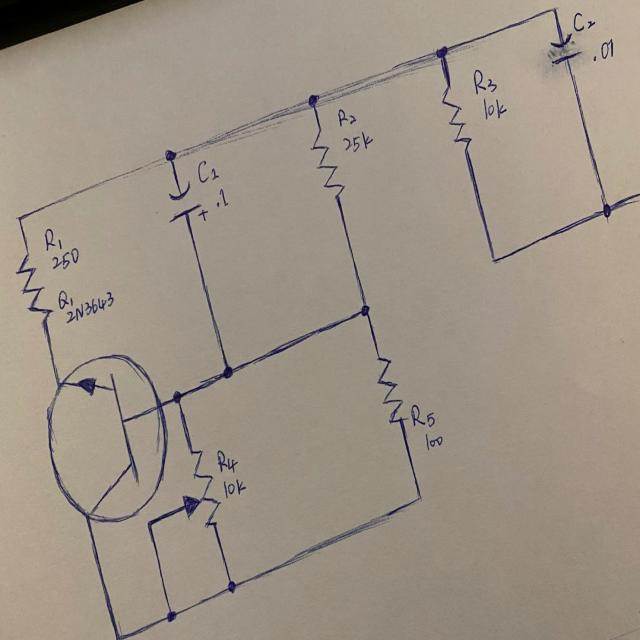capacitor: (167, 180, 209, 225), (548, 34, 582, 64)
junction: (432, 40, 456, 66), (411, 488, 435, 513), (160, 140, 181, 164), (354, 300, 375, 324), (598, 194, 615, 223), (106, 622, 132, 640), (167, 387, 187, 409), (217, 362, 237, 384), (484, 245, 501, 270), (221, 575, 240, 597), (162, 605, 180, 627), (305, 88, 321, 112), (11, 208, 28, 230), (142, 517, 159, 536), (542, 2, 562, 17)
resistor: (178, 444, 222, 528), (14, 249, 52, 324), (374, 354, 406, 429), (310, 126, 342, 200), (438, 84, 471, 154)
terminal: (623, 184, 640, 210)
text: (66, 290, 120, 324), (342, 130, 375, 158), (480, 95, 508, 125), (471, 66, 497, 94), (592, 38, 618, 66), (49, 248, 82, 270), (411, 402, 436, 428), (572, 9, 597, 33), (216, 448, 240, 473), (40, 226, 64, 250), (197, 158, 220, 183), (222, 479, 248, 499), (336, 105, 357, 128), (424, 431, 444, 450), (57, 288, 74, 310), (214, 187, 230, 210)
transistor: (35, 353, 169, 527)
